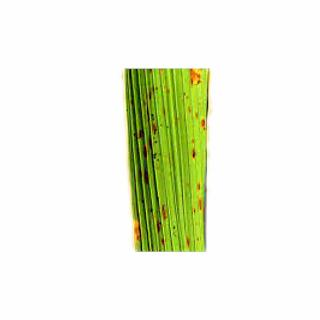Bercak-Cokelat-Sempit: (144, 84, 166, 138), (132, 130, 153, 162), (193, 182, 208, 218), (186, 68, 208, 90), (131, 218, 146, 248), (185, 139, 201, 164), (138, 168, 157, 184), (155, 206, 176, 220), (184, 232, 196, 250), (196, 119, 208, 134), (156, 220, 167, 236), (158, 238, 170, 249)
